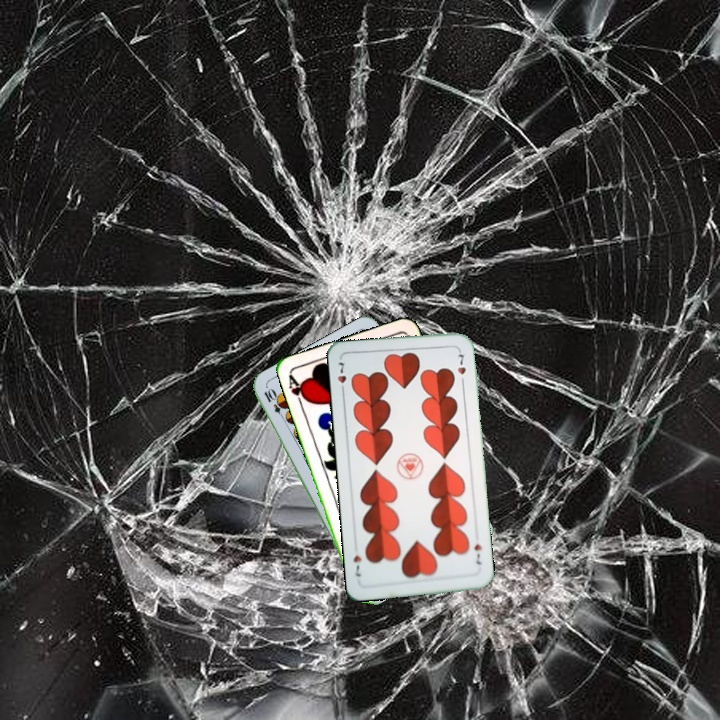E10: (260, 385, 289, 423)
H7: (333, 357, 349, 397), (470, 540, 484, 567)
HA: (284, 371, 311, 410)
